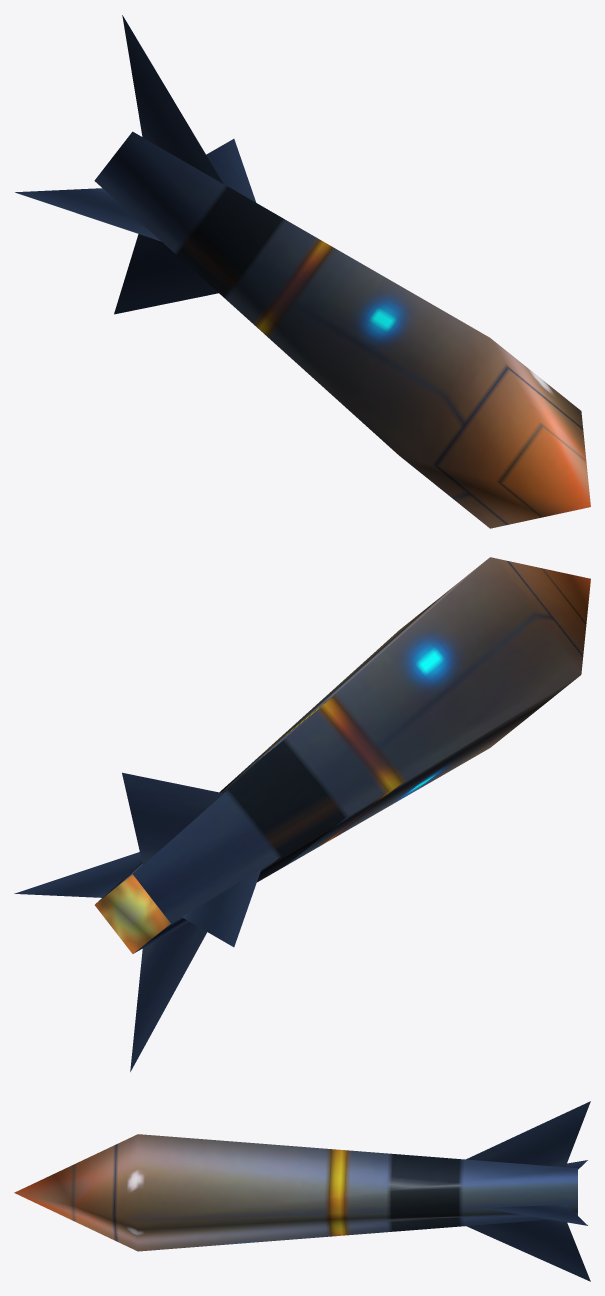
Rendered from missile03.FBX.
3 views of the same model, one above another, from view 1: azimuth 30°, elevation 25°; view 2: azimuth 150°, elevation 25°; view 3: azimuth 270°, elevation 25° (orthographic). The views are drawn at different scales.
Parts seen in each view (by area): view 1: missile03; view 2: missile03; view 3: missile03.
Boxes of the visible parts, box(x1,y1,x2,y2) form: missile03: box(15, 15, 590, 528); missile03: box(14, 557, 590, 1071); missile03: box(14, 1101, 590, 1281).
Bounding box in the file's own units: 16.89 × 21.87 × 62.33.
